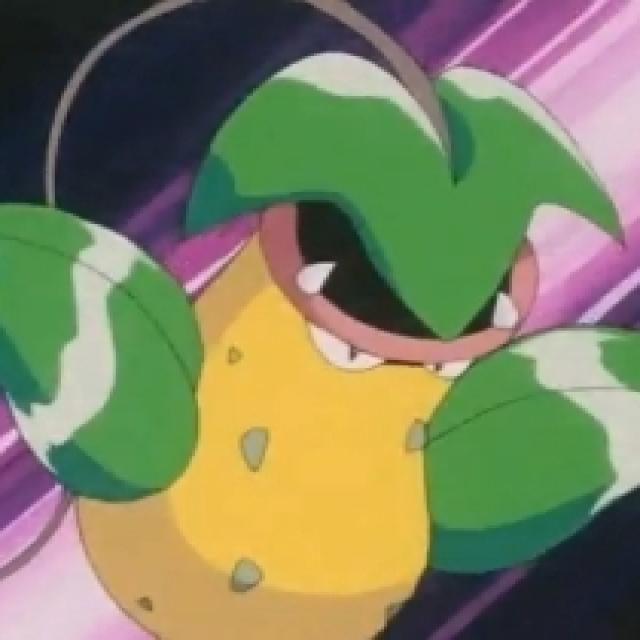Victreebel: (72, 57, 542, 635)
